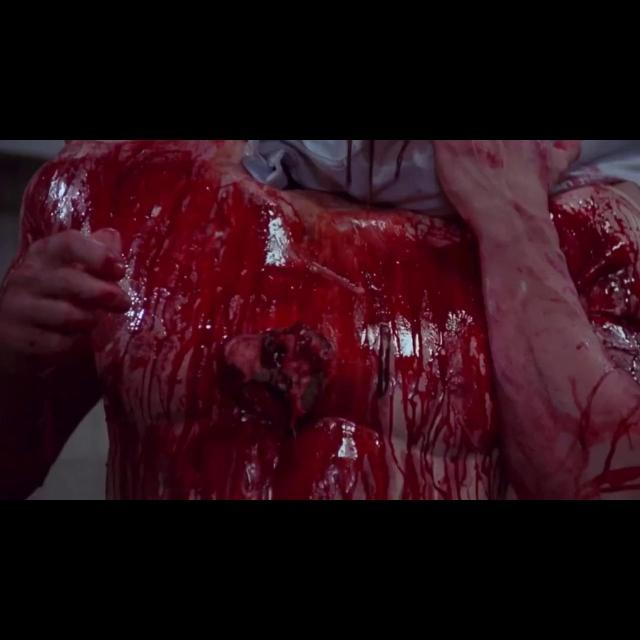blood: (0, 140, 640, 499)
